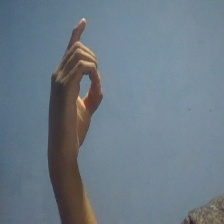D: (43, 16, 105, 160)
